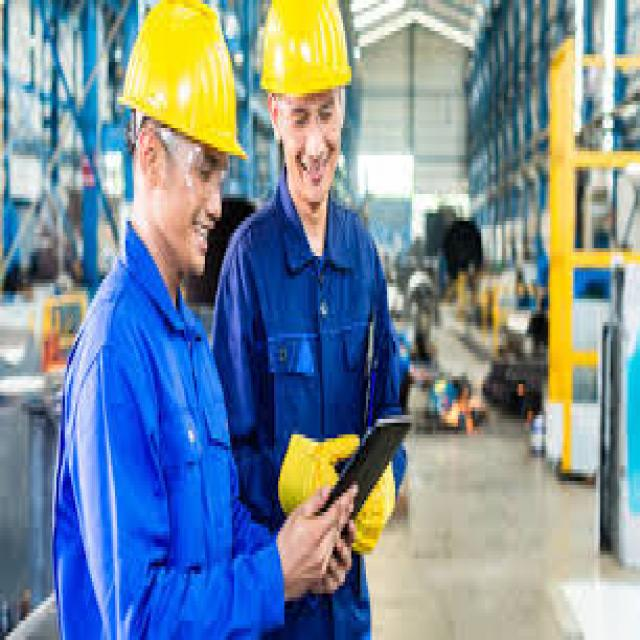Safety-Helmet: (119, 0, 247, 167), (260, 0, 356, 105)
